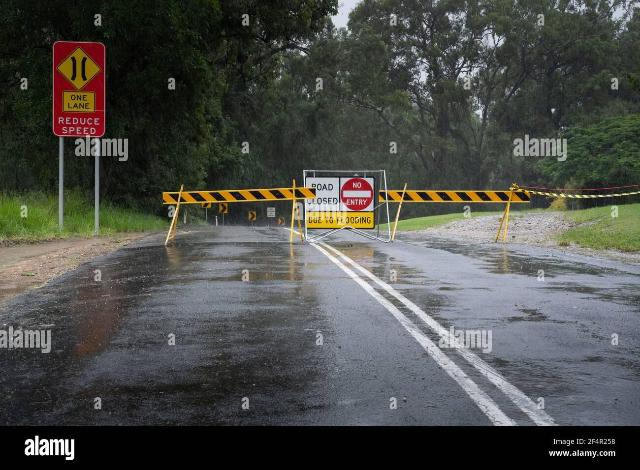B2: (342, 179, 372, 211)
